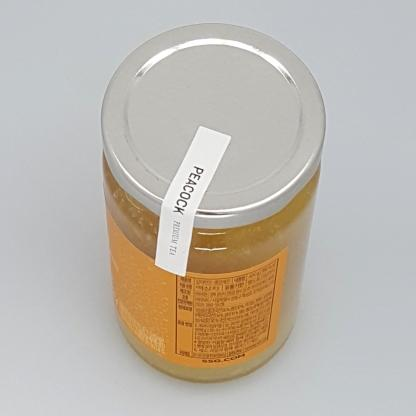--------------400G: (100, 22, 326, 384)
